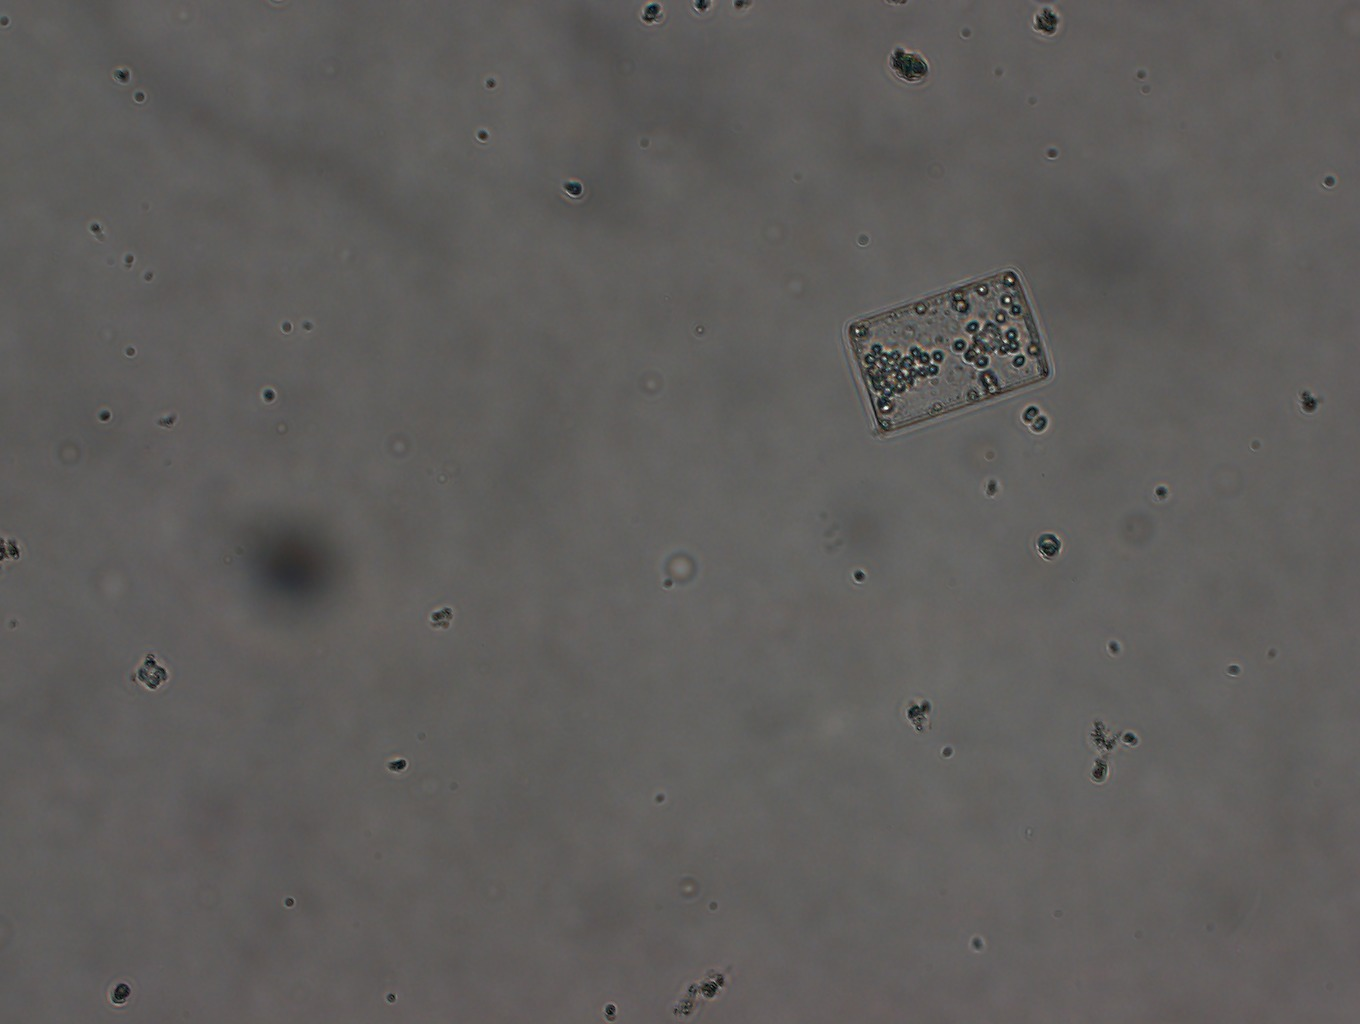guinardia flaccida: (841, 264, 1055, 436)
